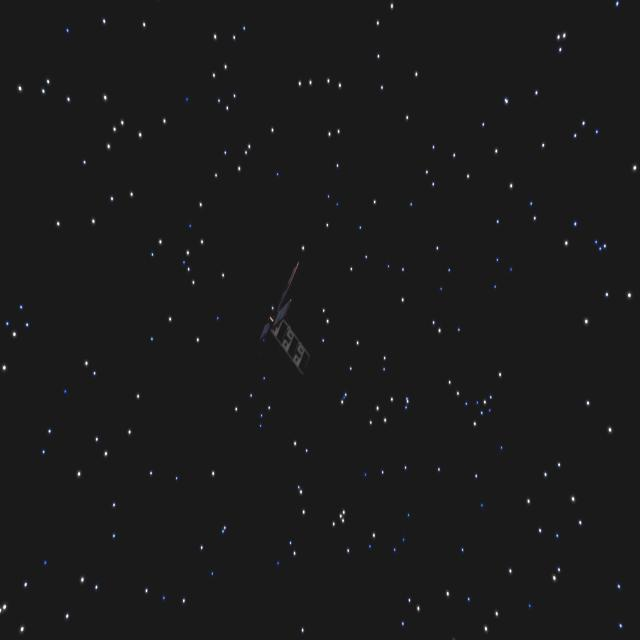satellite: (251, 253, 316, 383)
